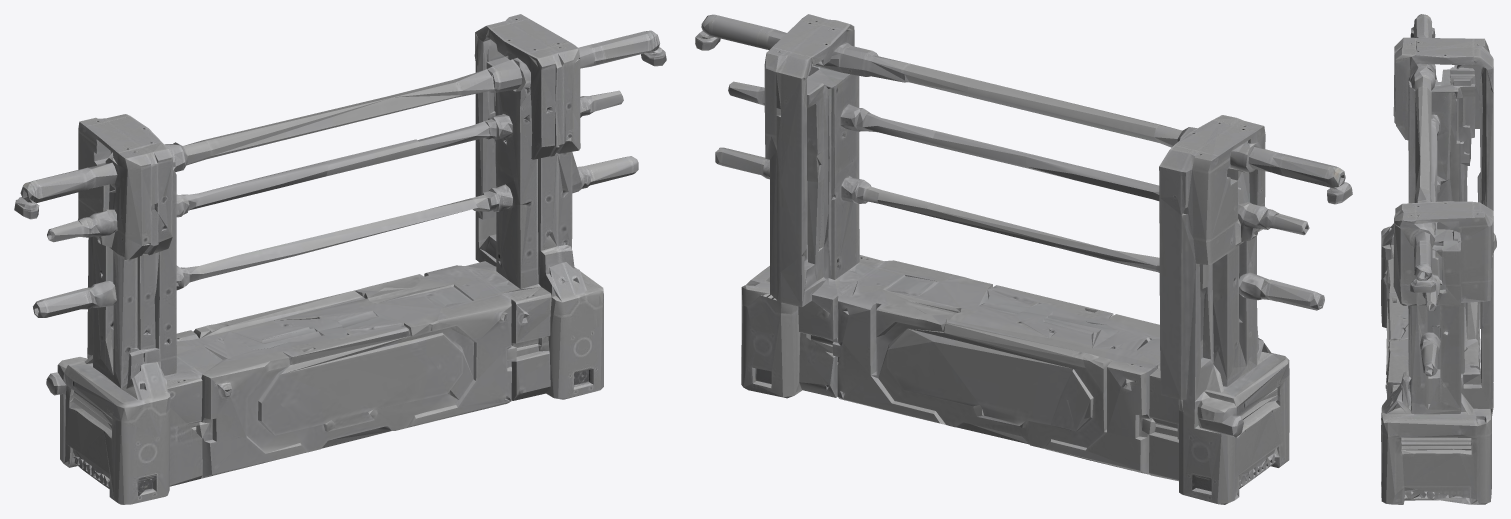
Rendered from barrier_rail.glb.
3 renders of one model, left to right at view 1: azimuth 30°, elevation 25°; view 2: azimuth 150°, elevation 25°; view 3: azimuth 270°, elevation 25°, orthographic. The views are drawn at different scales.
Visible parts, largest first — view 1: output_unwrapped; view 2: output_unwrapped; view 3: output_unwrapped.
Part boxes in pixels (x1,y1,x2,y2): output_unwrapped: (14,14,666,504); output_unwrapped: (695,14,1352,504); output_unwrapped: (1381,14,1496,504).
Size of the model in its own units: 1.9 by 0.9509 by 0.3578.
1 material, 1 textured.
